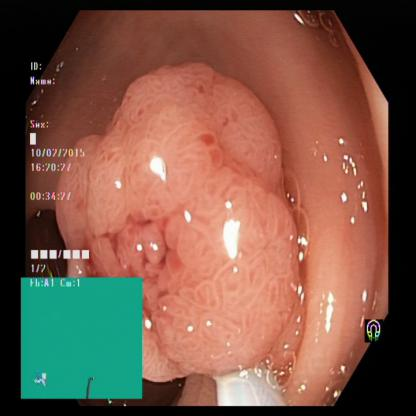Labels: (20, 278, 145, 400), (27, 60, 97, 276)
Polyps: (104, 73, 308, 358), (364, 314, 387, 346)
